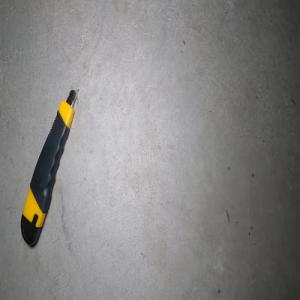Cutter: (20, 88, 77, 247)
